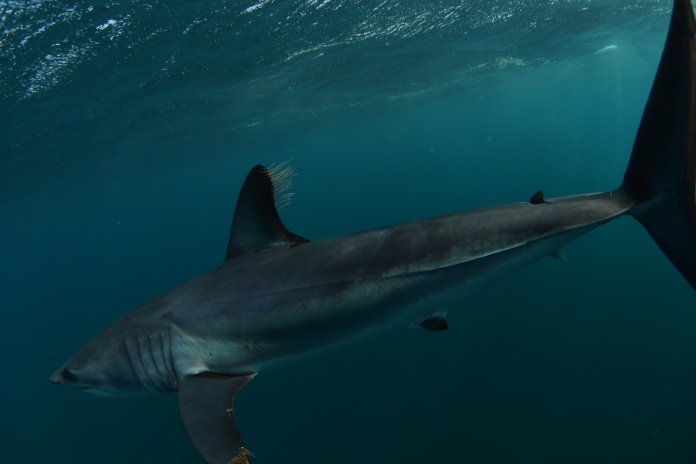Mako: (12, 1, 696, 463)
